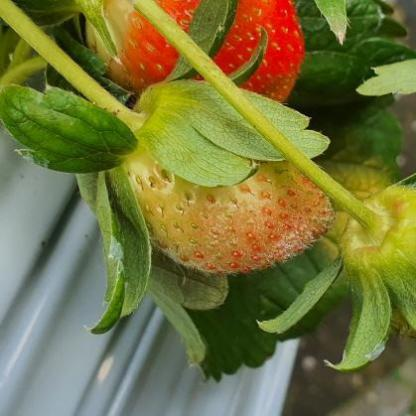Strawberry_Powdery_Mildew_Fruit: (175, 162, 340, 276)
